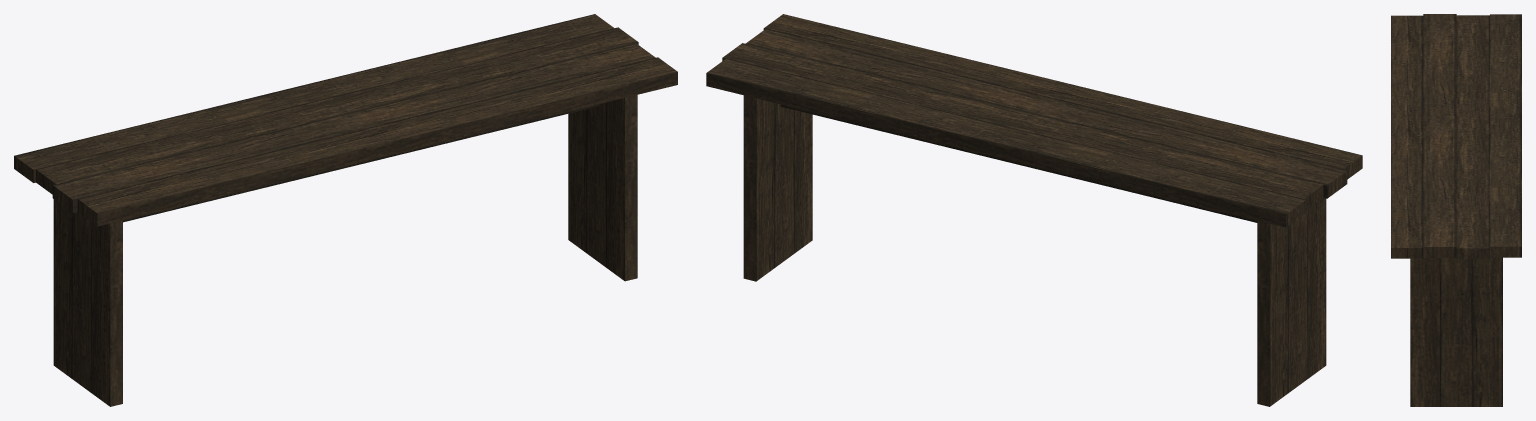
The model's file is bench_mx_1_2.obj.
3 renders of one model, left to right at view 1: azimuth 30°, elevation 25°; view 2: azimuth 150°, elevation 25°; view 3: azimuth 270°, elevation 25°, orthographic. The views are drawn at different scales.
Visible parts, largest first — view 1: bench_mx_1_2; view 2: bench_mx_1_2; view 3: bench_mx_1_2.
Boxes of the visible parts, x1,y1,x2,y2 form: bench_mx_1_2: [14, 14, 677, 406]; bench_mx_1_2: [706, 14, 1362, 406]; bench_mx_1_2: [1391, 14, 1521, 406].
Size of the model in its own units: 1.86 by 0.63 by 0.438.
